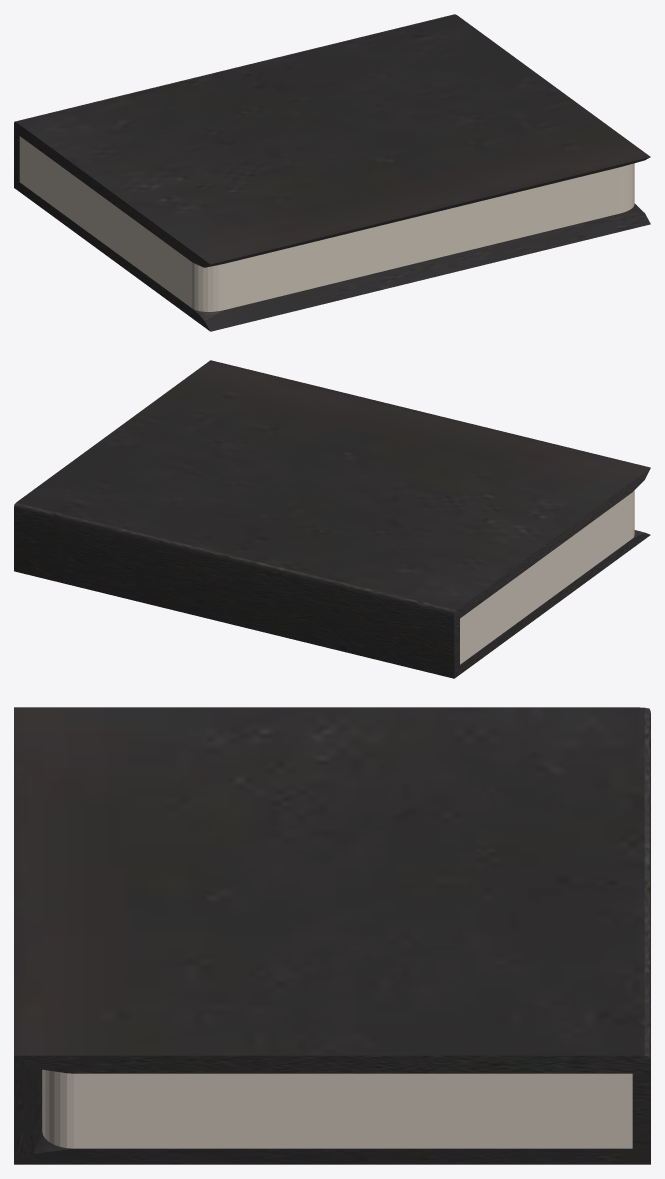
File: diary.fbx
3 renders of one model, top to bottom at view 1: azimuth 30°, elevation 25°; view 2: azimuth 150°, elevation 25°; view 3: azimuth 270°, elevation 25°, orthographic. The views are drawn at different scales.
Visible parts, largest first — view 1: 立方体; view 2: 立方体; view 3: 立方体.
Part boxes in pixels (bbox=[...]): 立方体: bbox=[14, 14, 650, 331]; 立方体: bbox=[14, 360, 650, 678]; 立方体: bbox=[14, 707, 650, 1164].
Bounding box in the file's own units: 200 × 29.2 × 155.
